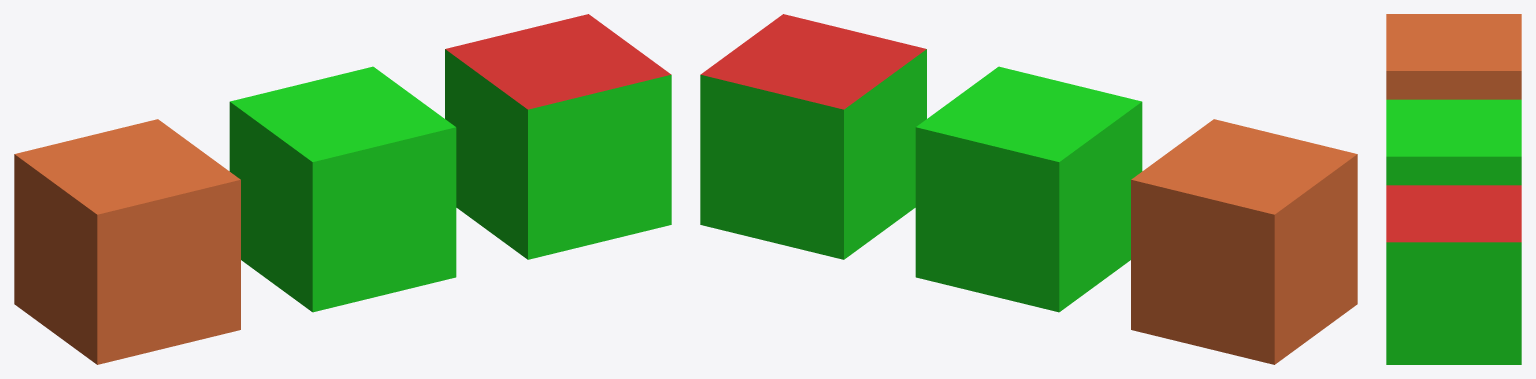
Rendered from multi-cube-material.dae.
3 views of the same model, side by side, from view 1: azimuth 30°, elevation 25°; view 2: azimuth 150°, elevation 25°; view 3: azimuth 270°, elevation 25° (orthographic). The views are drawn at different scales.
Visible parts, largest first — view 1: Cube.000, Cube.002; view 2: Cube.000, Cube.002; view 3: Cube.000, Cube.002.
Part boxes in pixels (x1=…): Cube.000: x1=229, y1=14, x2=671, y2=312; Cube.002: x1=14, y1=119, x2=240, y2=364; Cube.000: x1=700, y1=14, x2=1142, y2=312; Cube.002: x1=1131, y1=119, x2=1357, y2=364; Cube.000: x1=1386, y1=99, x2=1521, y2=364; Cube.002: x1=1386, y1=14, x2=1521, y2=99.
Bounding box in the file's own units: 8 × 2 × 2.
